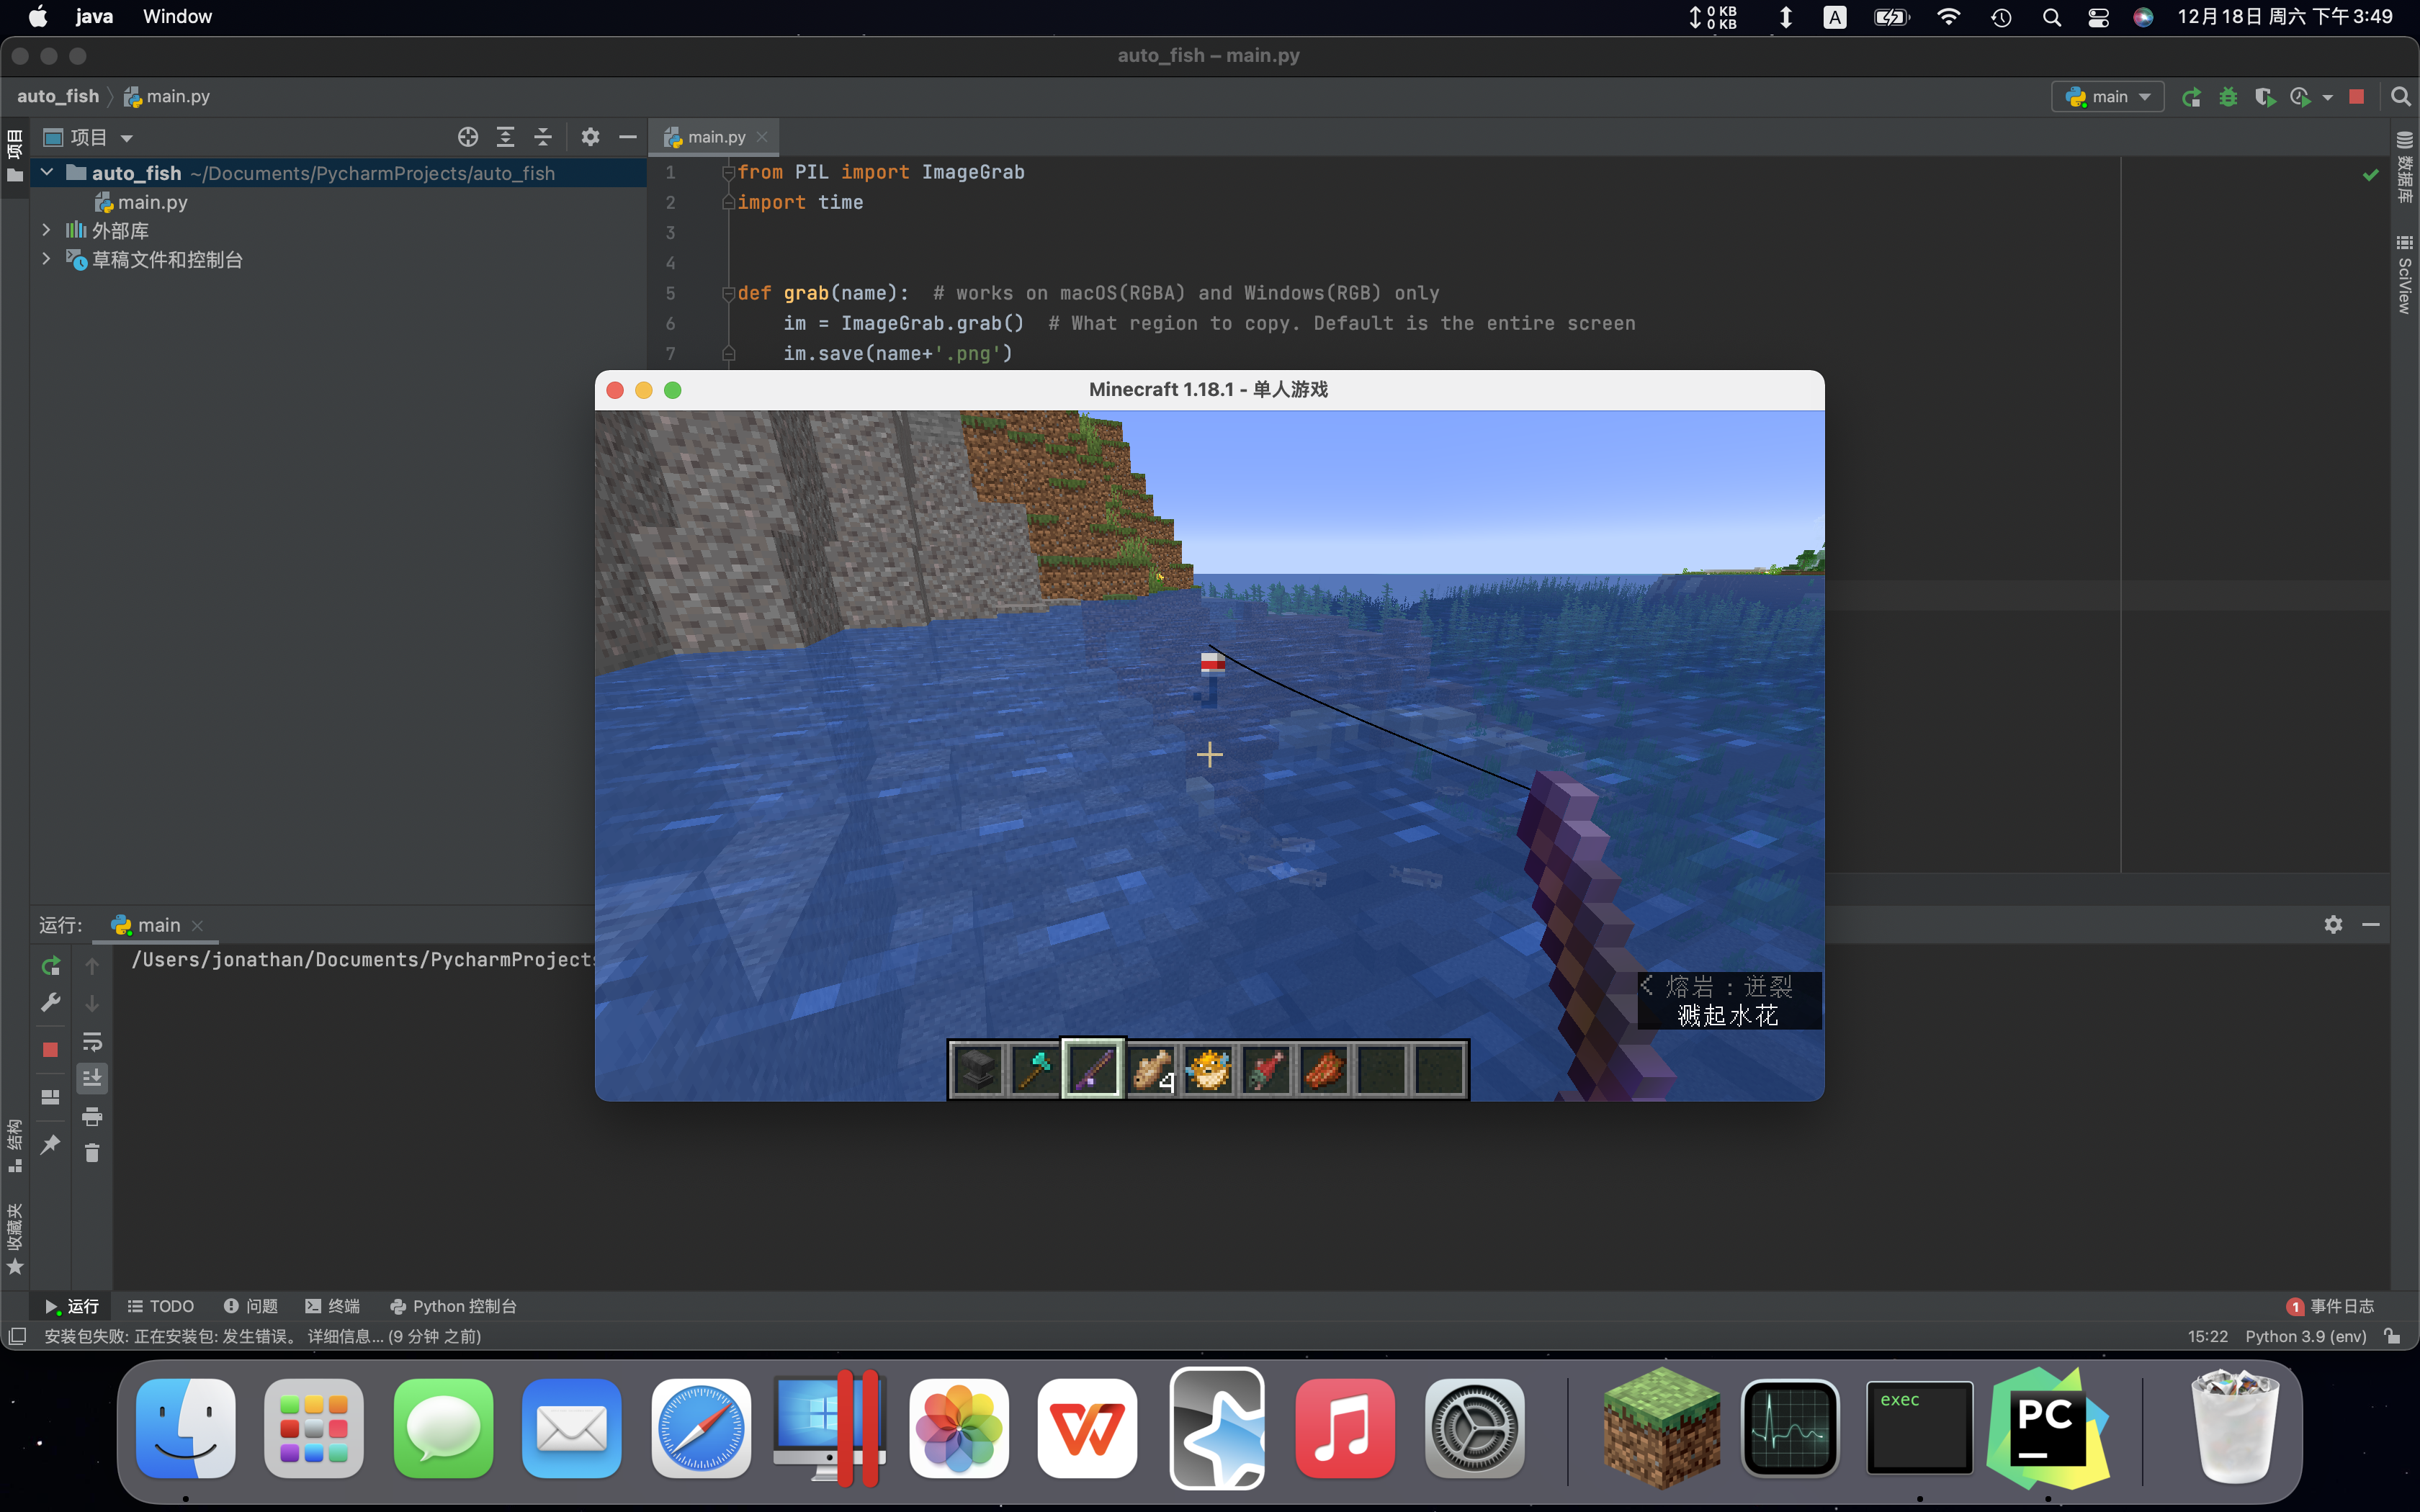inf: (1638, 972, 1822, 1031)
